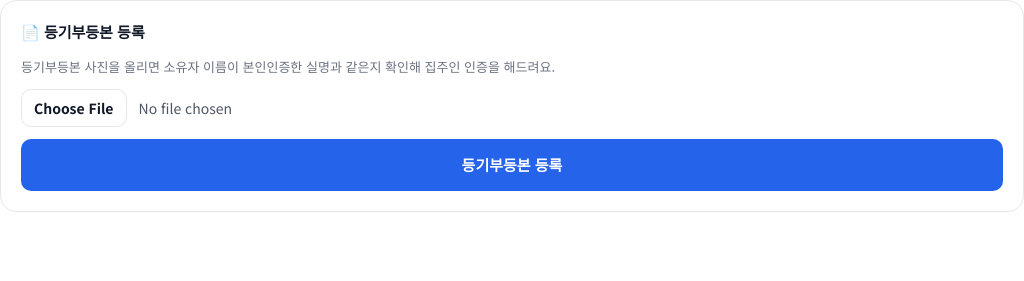
OwnerVerificationCard › points to the my page when the real-name verification is missing
This screenshot has width=1024, height=281.
Earlier steps of the test are not shown.
Click the button "등기부등본 등록": (512, 165) [21,139,1003,191]
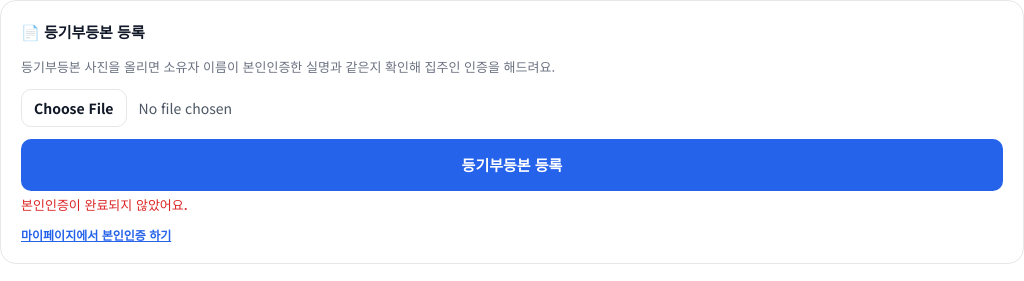
Check: the text "본인인증이 완료되지 않았어요." is shown, box [21,195,188,214]
